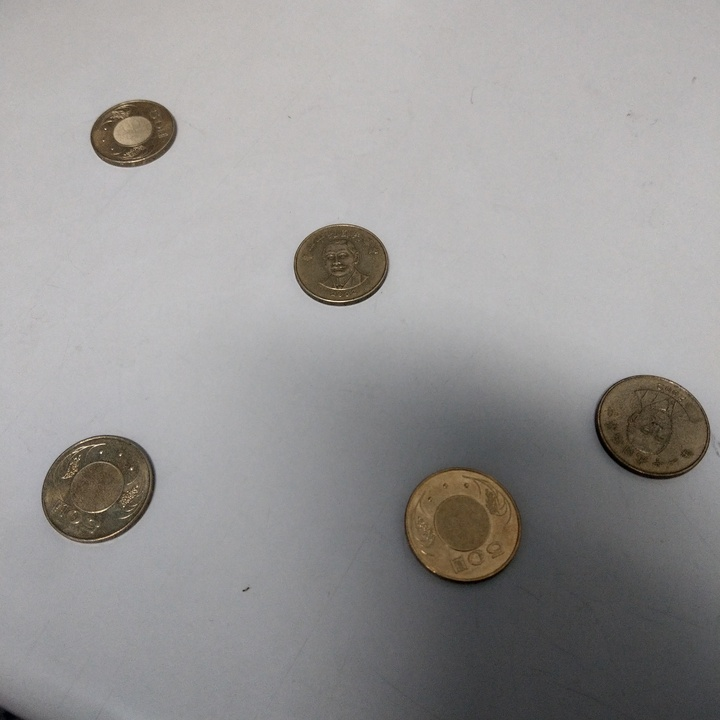50 dollar: (405, 469, 523, 585), (40, 433, 156, 544), (596, 374, 712, 482), (292, 225, 391, 306), (91, 100, 177, 169)
